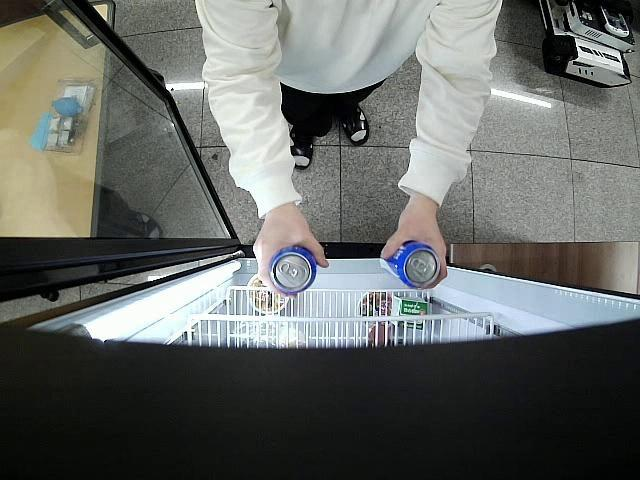13_pocariSweat: (380, 240, 441, 288), (270, 243, 317, 292)
